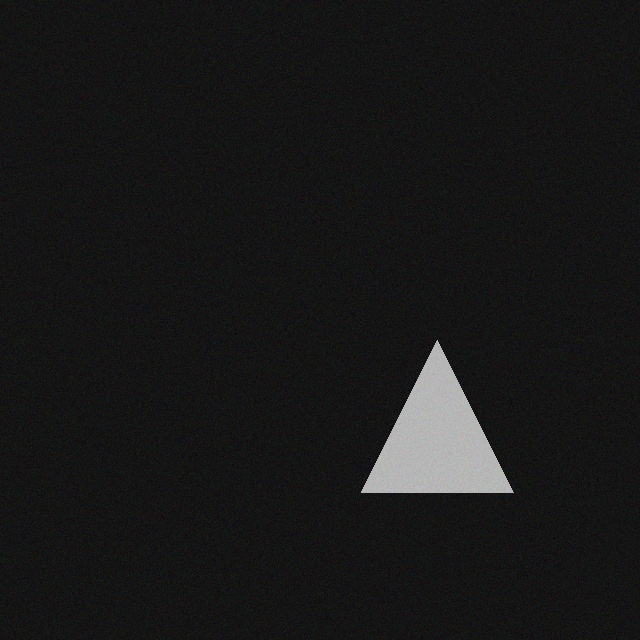triangle: (346, 331, 498, 483)
